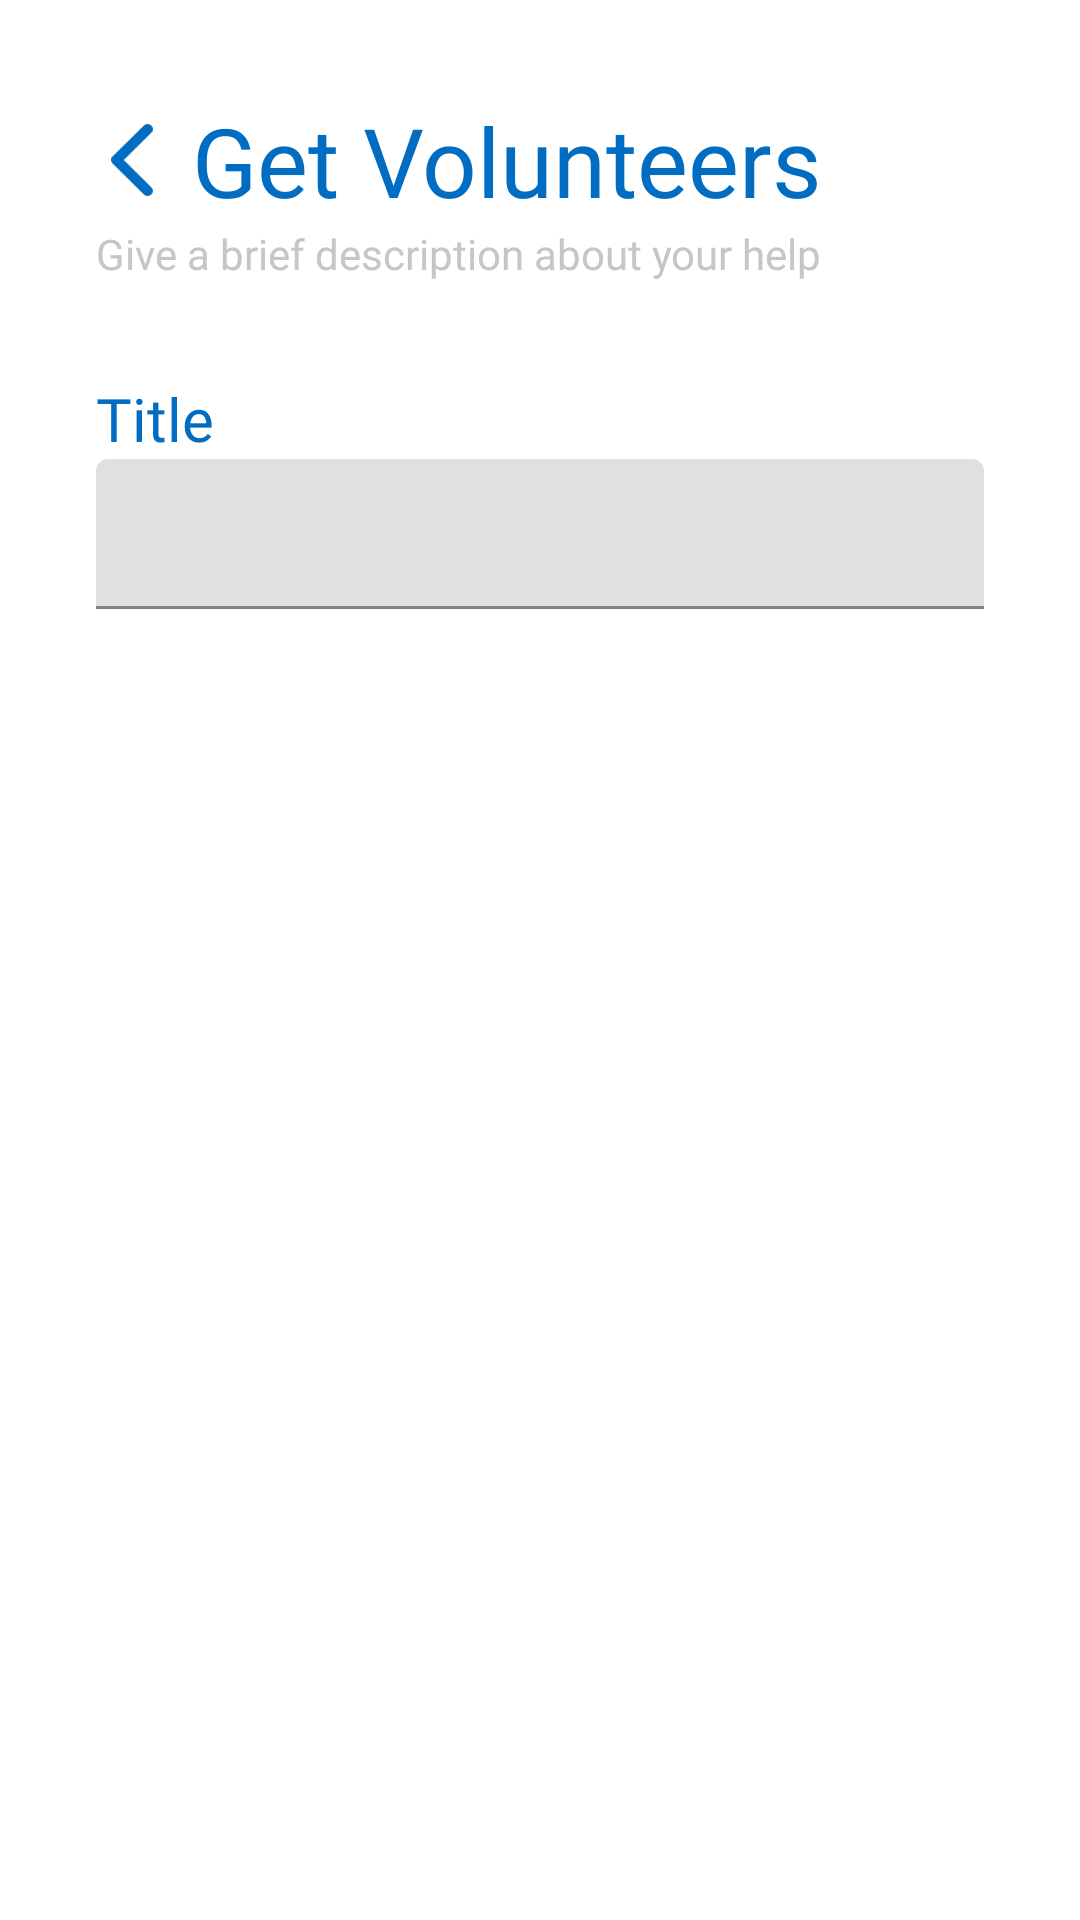

Locate icon controls on the screen. Image size 1080*1920, boxes as (x1, y1, x2, y2).
back: (111, 124, 153, 196)
